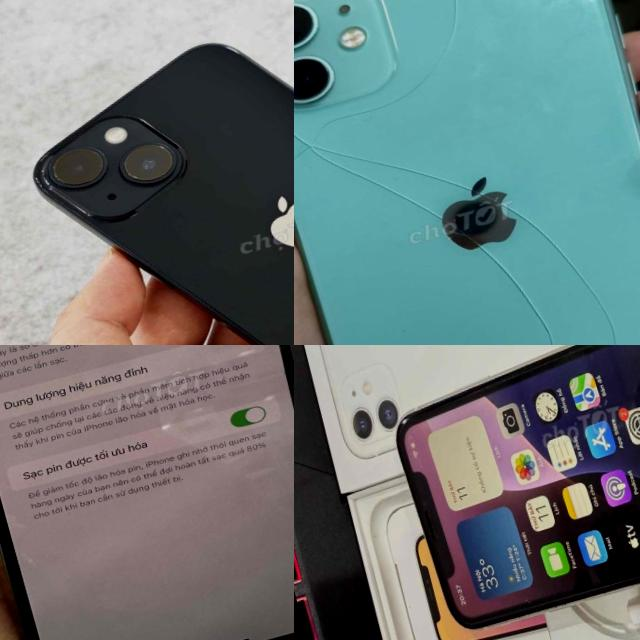gen_11: (294, 0, 640, 345), (376, 345, 640, 640)
gen_14: (6, 0, 294, 345), (0, 345, 294, 640)
physical_damage: (294, 0, 640, 345)
scratch: (19, 148, 70, 215), (394, 408, 414, 428), (516, 592, 532, 608)
